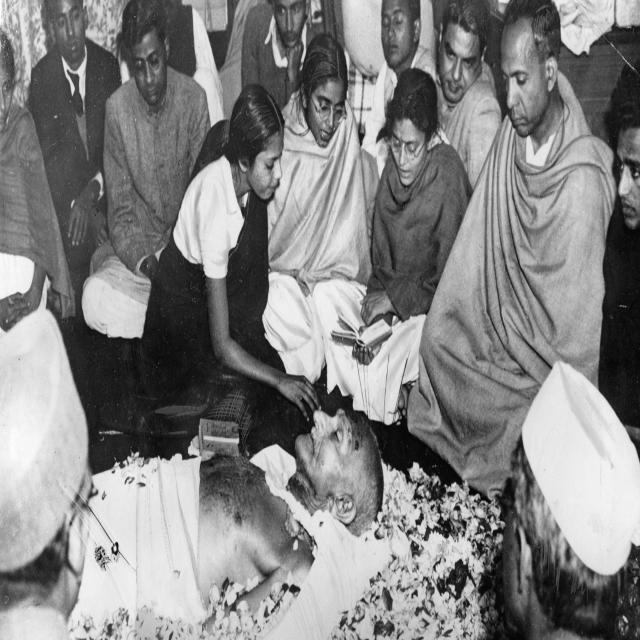body: (406, 0, 619, 499), (66, 406, 386, 640), (136, 82, 325, 458), (310, 65, 475, 427), (114, 0, 435, 142), (261, 31, 374, 393), (496, 358, 640, 640), (0, 23, 77, 459), (0, 305, 99, 640), (101, 0, 212, 283), (25, 0, 122, 270), (359, 0, 445, 183), (596, 91, 640, 435), (434, 0, 503, 190), (238, 0, 319, 123)
